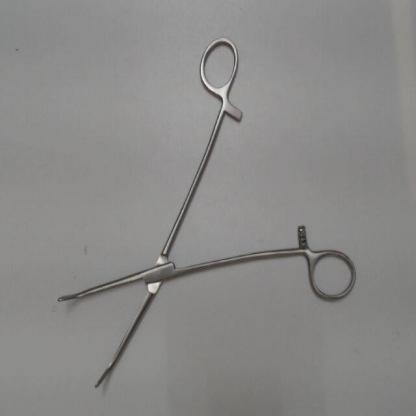Lahey Forceps: (52, 32, 361, 401)
